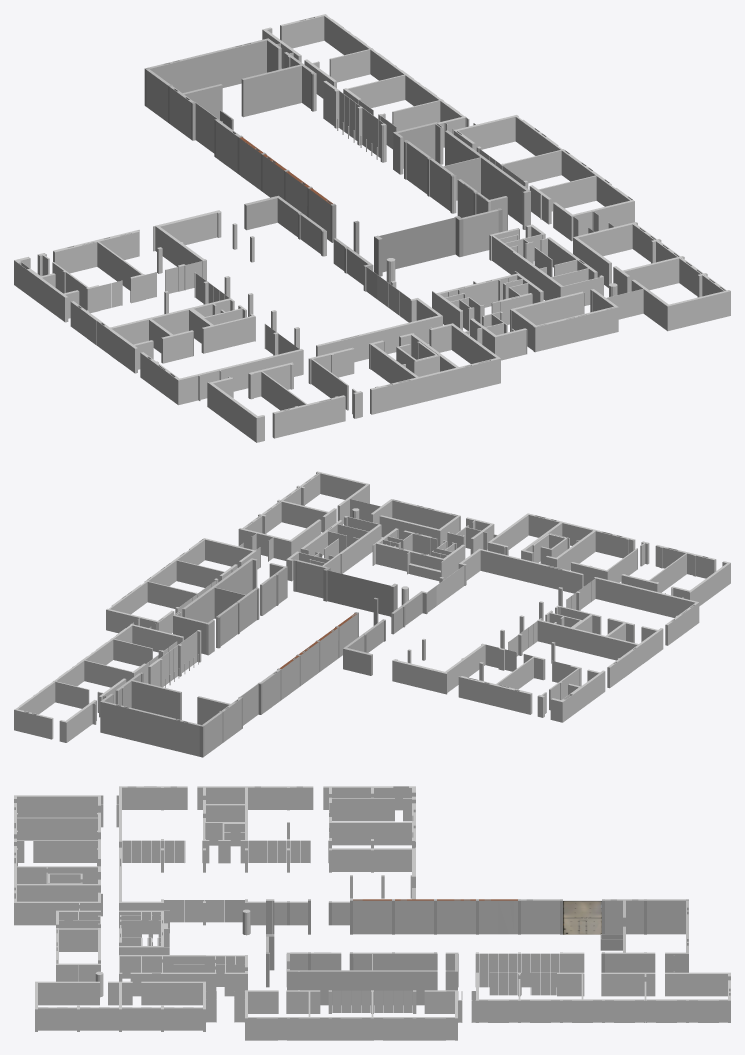
File: fib14.dae
The picture shows the model from 3 angles, top to bottom: view 1: azimuth 30°, elevation 25°; view 2: azimuth 150°, elevation 25°; view 3: azimuth 270°, elevation 25°; orthographic projection. The views are drawn at different scales.
Visible parts, largest first — view 1: Shape_IndexedFaceSet.085, Shape_IndexedFaceSet.064, Shape_IndexedFaceSet.082, Shape_IndexedFaceSet.034, Shape_IndexedFaceSet.207, Shape_IndexedFaceSet.164, Shape_IndexedFaceSet.009, Shape_IndexedFaceSet.001, Shape_IndexedFaceSet.102, Shape_IndexedFaceSet.140, Shape_IndexedFaceSet.136, Shape_IndexedFaceSet.176 (+14 smaller); view 2: Shape_IndexedFaceSet.064, Shape_IndexedFaceSet.085, Shape_IndexedFaceSet.034, Shape_IndexedFaceSet.082, Shape_IndexedFaceSet.207, Shape_IndexedFaceSet.164, Shape_IndexedFaceSet.009, Shape_IndexedFaceSet.001, Shape_IndexedFaceSet.136, Shape_IndexedFaceSet.166, Shape_IndexedFaceSet.102, Shape_IndexedFaceSet.165 (+15 smaller); view 3: Shape_IndexedFaceSet.064, Shape_IndexedFaceSet.085, Shape_IndexedFaceSet.082, Shape_IndexedFaceSet.034, Shape_IndexedFaceSet.009, Shape_IndexedFaceSet.207, Shape_IndexedFaceSet.164, Shape_IndexedFaceSet.102, Shape_IndexedFaceSet.178, Shape_IndexedFaceSet.136, Shape_IndexedFaceSet.176, Shape_IndexedFaceSet.140 (+18 smaller).
Boxes of the visible parts, x1=… form: Shape_IndexedFaceSet.085: x1=510, y1=222, x2=730, y2=352; Shape_IndexedFaceSet.064: x1=144, y1=38, x2=336, y2=242; Shape_IndexedFaceSet.082: x1=453, y1=115, x2=634, y2=241; Shape_IndexedFaceSet.034: x1=280, y1=14, x2=469, y2=147; Shape_IndexedFaceSet.207: x1=71, y1=298, x2=255, y2=373; Shape_IndexedFaceSet.164: x1=370, y1=323, x2=500, y2=414; Shape_IndexedFaceSet.009: x1=404, y1=130, x2=530, y2=229; Shape_IndexedFaceSet.001: x1=374, y1=208, x2=502, y2=276; Shape_IndexedFaceSet.102: x1=489, y1=224, x2=603, y2=305; Shape_IndexedFaceSet.140: x1=249, y1=362, x2=345, y2=438; Shape_IndexedFaceSet.136: x1=432, y1=271, x2=543, y2=333; Shape_IndexedFaceSet.176: x1=53, y1=229, x2=156, y2=303; Shape_IndexedFaceSet.064: x1=100, y1=612, x2=358, y2=757; Shape_IndexedFaceSet.085: x1=238, y1=471, x2=460, y2=561; Shape_IndexedFaceSet.034: x1=14, y1=622, x2=183, y2=739; Shape_IndexedFaceSet.082: x1=106, y1=538, x2=260, y2=633; Shape_IndexedFaceSet.207: x1=537, y1=605, x2=663, y2=687; Shape_IndexedFaceSet.164: x1=487, y1=513, x2=634, y2=570; Shape_IndexedFaceSet.009: x1=183, y1=558, x2=259, y2=648; Shape_IndexedFaceSet.001: x1=294, y1=559, x2=397, y2=616; Shape_IndexedFaceSet.136: x1=372, y1=528, x2=465, y2=580; Shape_IndexedFaceSet.166: x1=455, y1=548, x2=583, y2=593; Shape_IndexedFaceSet.102: x1=286, y1=516, x2=381, y2=581; Shape_IndexedFaceSet.165: x1=594, y1=577, x2=699, y2=645; Shape_IndexedFaceSet.064: x1=350, y1=899, x2=688, y2=972; Shape_IndexedFaceSet.085: x1=35, y1=928, x2=216, y2=1031; Shape_IndexedFaceSet.082: x1=234, y1=990, x2=462, y2=1040; Shape_IndexedFaceSet.034: x1=471, y1=972, x2=730, y2=1022; Shape_IndexedFaceSet.009: x1=287, y1=952, x2=436, y2=1005; Shape_IndexedFaceSet.207: x1=197, y1=786, x2=312, y2=863; Shape_IndexedFaceSet.164: x1=14, y1=846, x2=102, y2=925; Shape_IndexedFaceSet.102: x1=119, y1=955, x2=247, y2=996; Shape_IndexedFaceSet.178: x1=329, y1=847, x2=415, y2=898; Shape_IndexedFaceSet.136: x1=119, y1=910, x2=169, y2=954; Shape_IndexedFaceSet.176: x1=329, y1=803, x2=415, y2=848; Shape_IndexedFaceSet.140: x1=14, y1=803, x2=100, y2=840.
Bounding box in the file's own units: 44.51 × 58.13 × 3.
